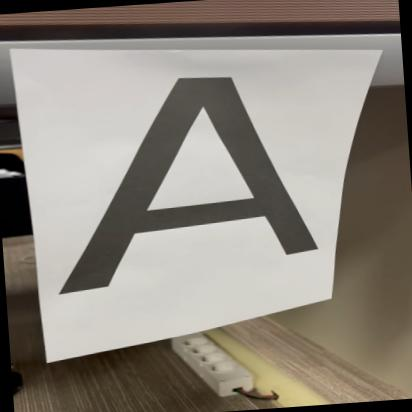seat: (39, 58, 327, 300)
